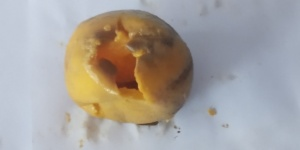BAD: (63, 9, 193, 124)
